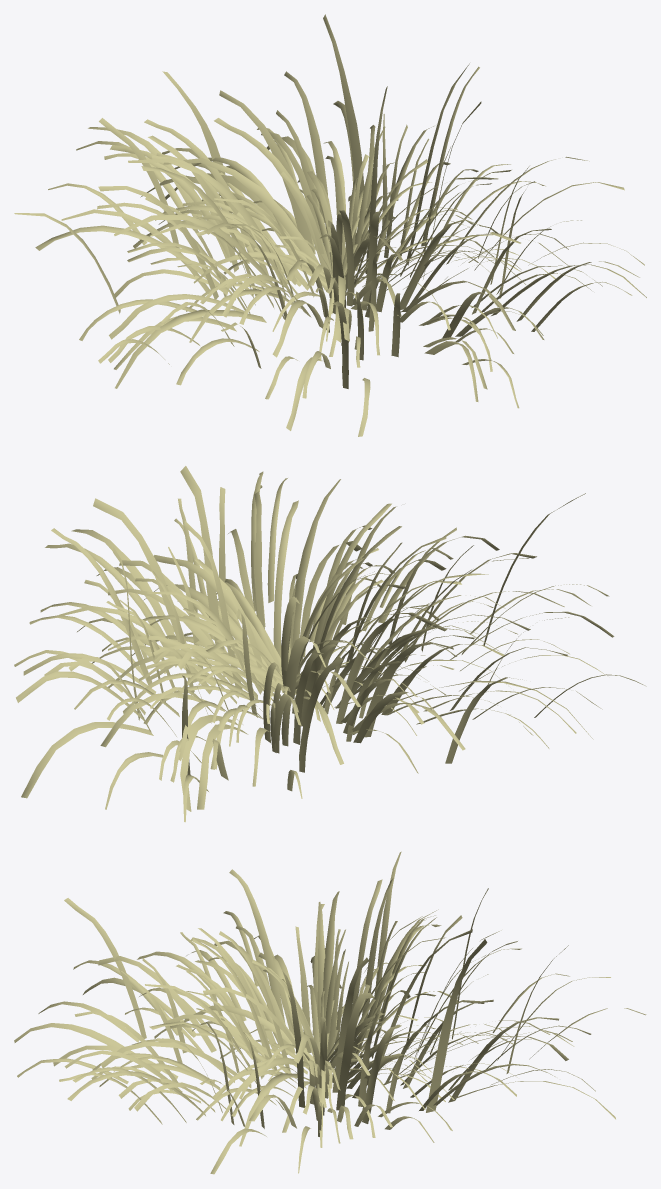
File: runtime-animated-dry-grass.glb
3 renders of one model, top to bottom at view 1: azimuth 30°, elevation 25°; view 2: azimuth 150°, elevation 25°; view 3: azimuth 270°, elevation 25°, orthographic. The views are drawn at different scales.
Visible parts, largest first — view 1: grass_Shape; view 2: grass_Shape; view 3: grass_Shape.
Part boxes in pixels (x1,y1,x2,y2): grass_Shape: (14,14,646,436); grass_Shape: (14,466,646,822); grass_Shape: (14,851,646,1174).
Size of the model in its own units: 3.47 by 1.22 by 3.91.
